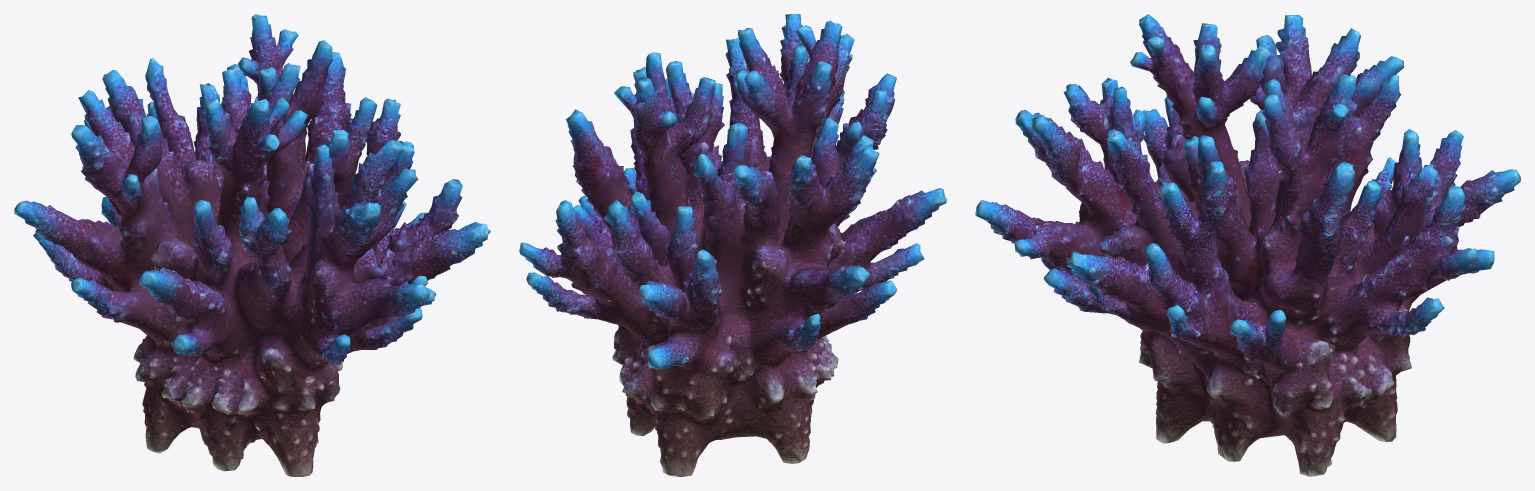
Rendered from acropora.glb.
The picture shows the model from 3 angles, left to right: view 1: azimuth 30°, elevation 25°; view 2: azimuth 150°, elevation 25°; view 3: azimuth 270°, elevation 25°; orthographic projection. The views are drawn at different scales.
Parts seen in each view (by area): view 1: tripo_node_55ecdee0-ff2e-4def-8162-f7a43fcc8058; view 2: tripo_node_55ecdee0-ff2e-4def-8162-f7a43fcc8058; view 3: tripo_node_55ecdee0-ff2e-4def-8162-f7a43fcc8058.
Boxes of the visible parts, x1,y1,x2,y2 form: tripo_node_55ecdee0-ff2e-4def-8162-f7a43fcc8058: [14, 14, 490, 476]; tripo_node_55ecdee0-ff2e-4def-8162-f7a43fcc8058: [519, 14, 946, 476]; tripo_node_55ecdee0-ff2e-4def-8162-f7a43fcc8058: [975, 14, 1520, 476].
Bounding box in the file's own units: 0.7574 × 0.7975 × 0.9894.
Materials: 1 (1 with a texture image).
